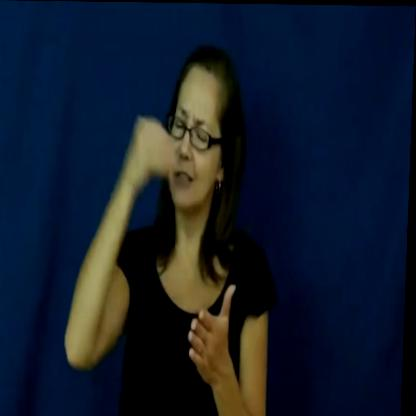Expensive: (115, 104, 243, 397)
